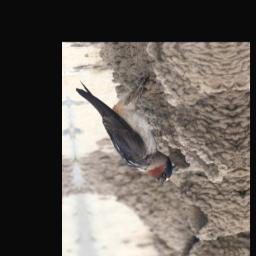Swallow: (73, 70, 175, 196)
